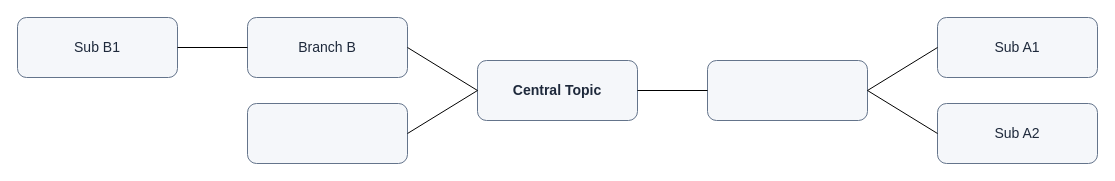
Some shapes in this 1115 by 181 pixel diagram are drawn without their labels. The box of each missing label's shape, as (x1, y1, x2, y2) in pixels:
Branch A: (706, 60, 868, 120)
Branch C: (246, 102, 408, 164)
